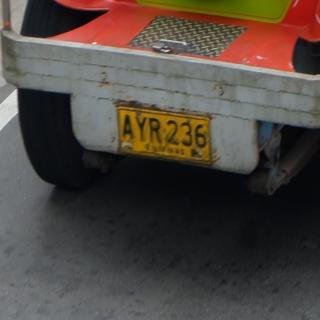license: (120, 108, 212, 166)
